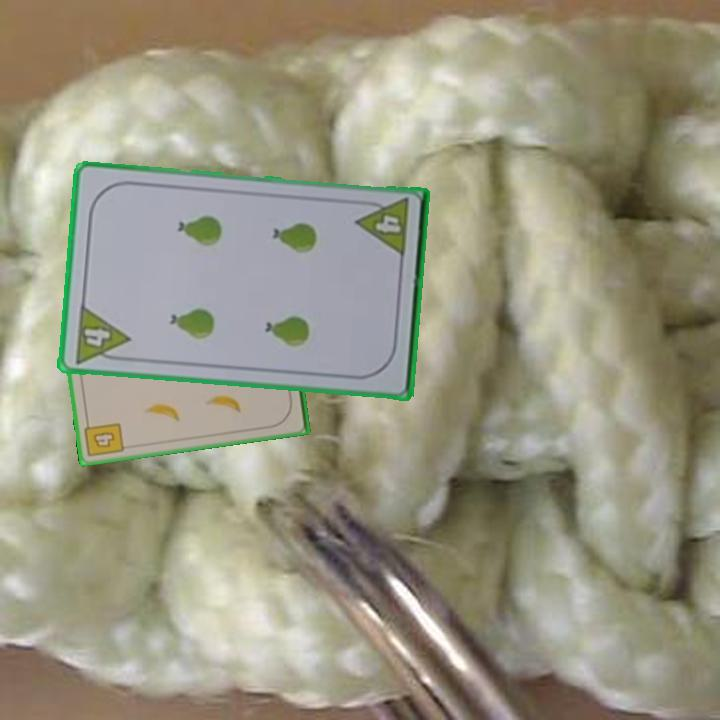4b: (81, 416, 127, 460)
4p: (71, 301, 132, 366), (353, 195, 412, 260)
